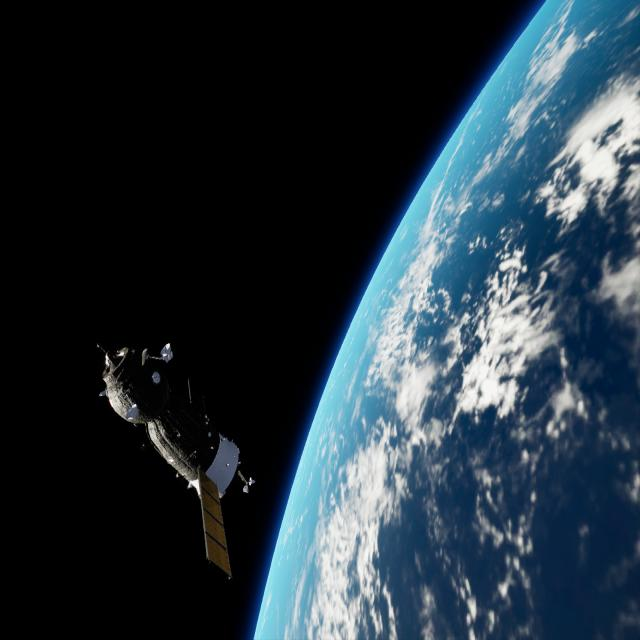Satellites revolving around earth: (252, 1, 638, 638), (94, 338, 256, 582)
